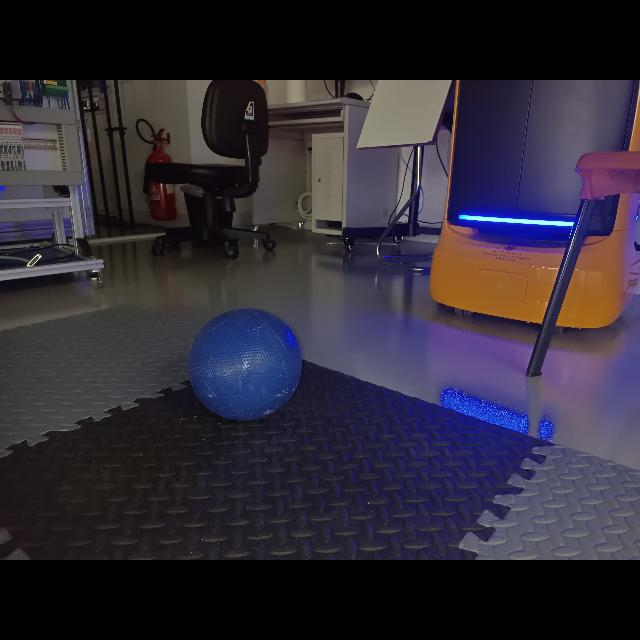B: (183, 304, 304, 424)
